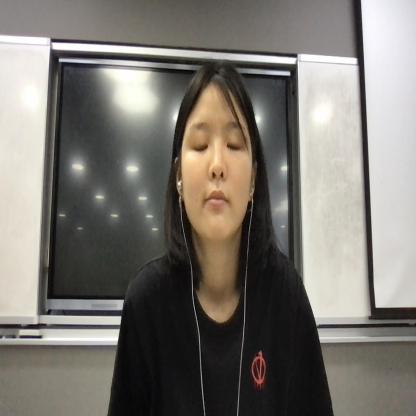sad: (170, 103, 264, 247)
